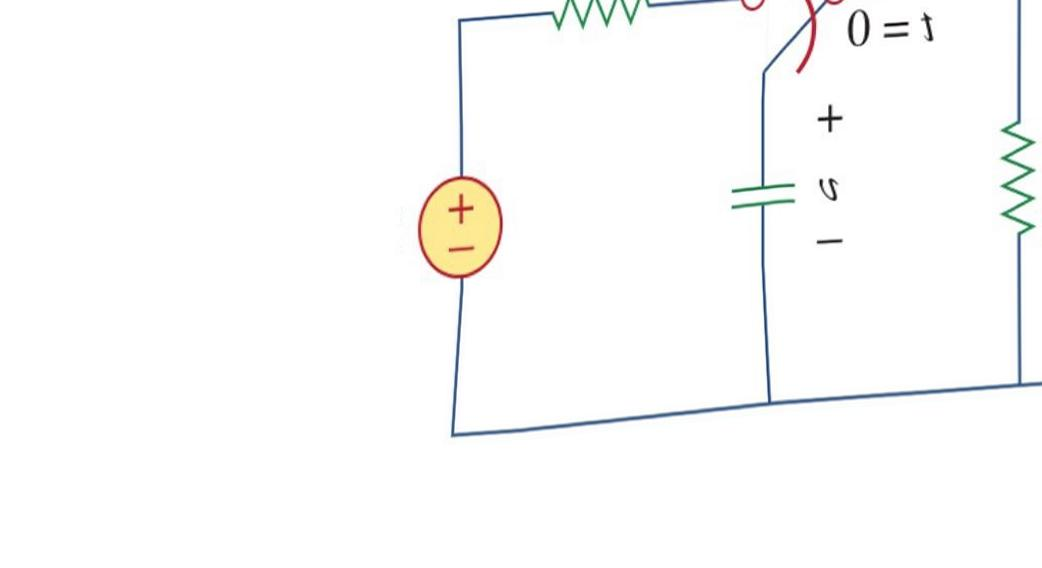Battery: (388, 154, 531, 305)
